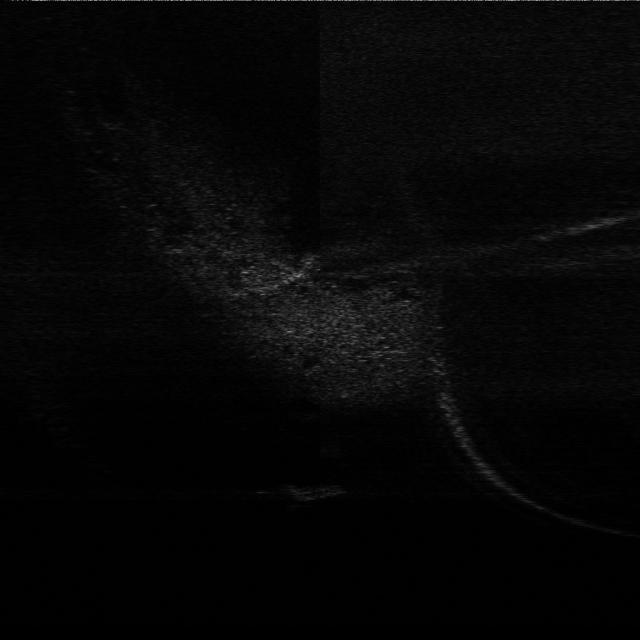square cage: (286, 465, 352, 506)
